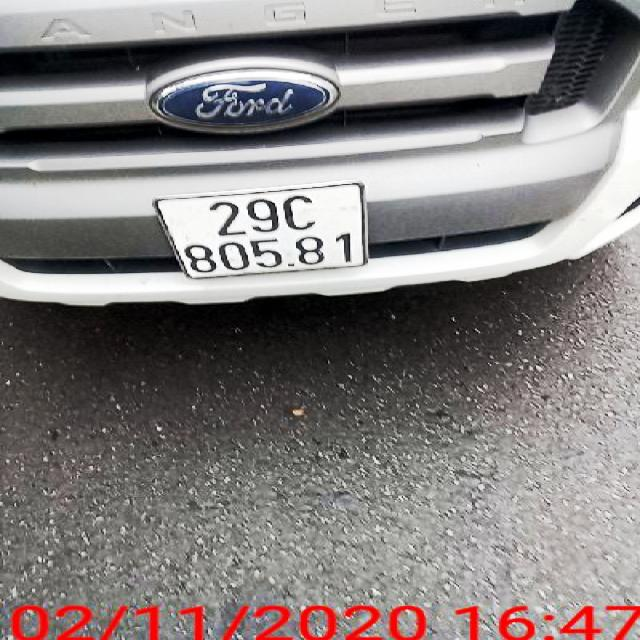license_plate: (157, 184, 368, 281)
